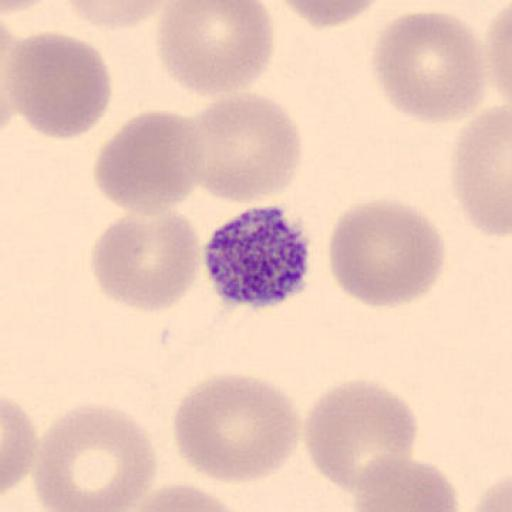Platelet: (200, 204, 315, 310)
RBC: (172, 371, 302, 485), (32, 402, 159, 512), (302, 378, 420, 494), (326, 195, 446, 309), (370, 10, 488, 125), (187, 90, 304, 205), (2, 30, 113, 142), (92, 109, 206, 218), (155, 1, 276, 98), (90, 209, 202, 313), (449, 105, 512, 239), (352, 454, 460, 512), (118, 482, 250, 512), (480, 2, 512, 120), (1, 395, 37, 496), (270, 0, 386, 30), (58, 0, 172, 30), (468, 474, 512, 512), (2, 0, 52, 16)
